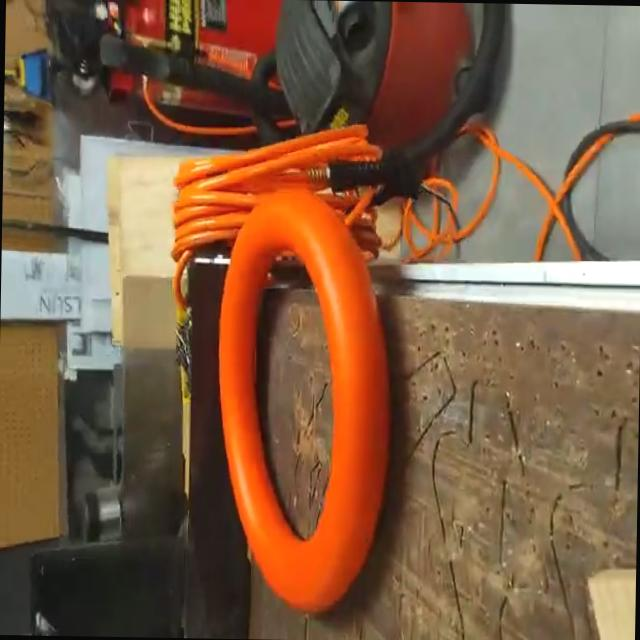note: (208, 190, 396, 616)
